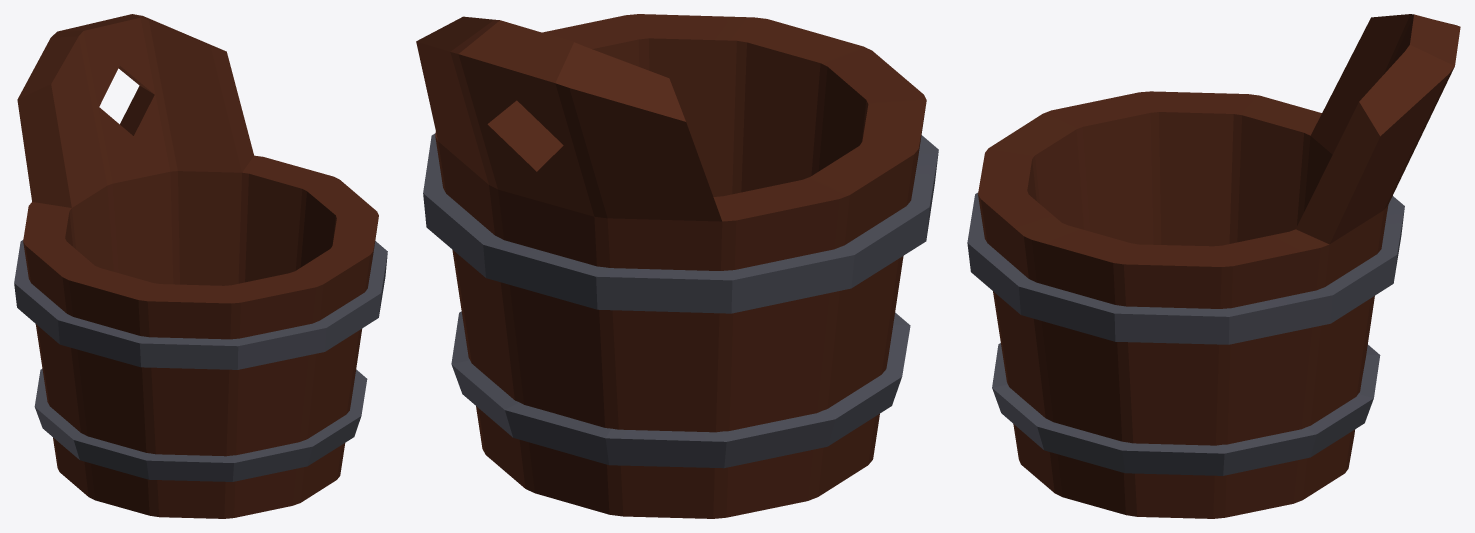
The model's file is Bucket_1.fbx.
The picture shows the model from 3 angles, left to right: view 1: azimuth 30°, elevation 25°; view 2: azimuth 150°, elevation 25°; view 3: azimuth 270°, elevation 25°; orthographic projection. The views are drawn at different scales.
Parts seen in each view (by area): view 1: Bucket_1; view 2: Bucket_1; view 3: Bucket_1.
Part boxes in pixels (left/top/right/bottom): Bucket_1: left=14, top=14, right=387, bottom=518; Bucket_1: left=416, top=14, right=938, bottom=518; Bucket_1: left=967, top=14, right=1460, bottom=518.
Size of the model in its own units: 18.78 by 20.08 by 21.21.
